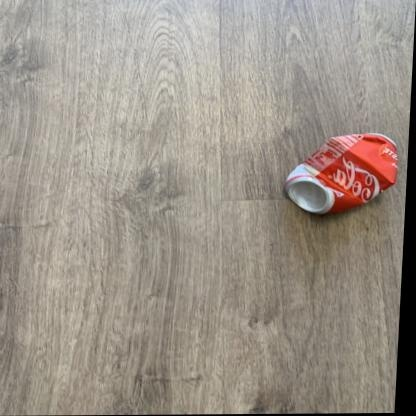trash: (285, 133, 397, 213)
